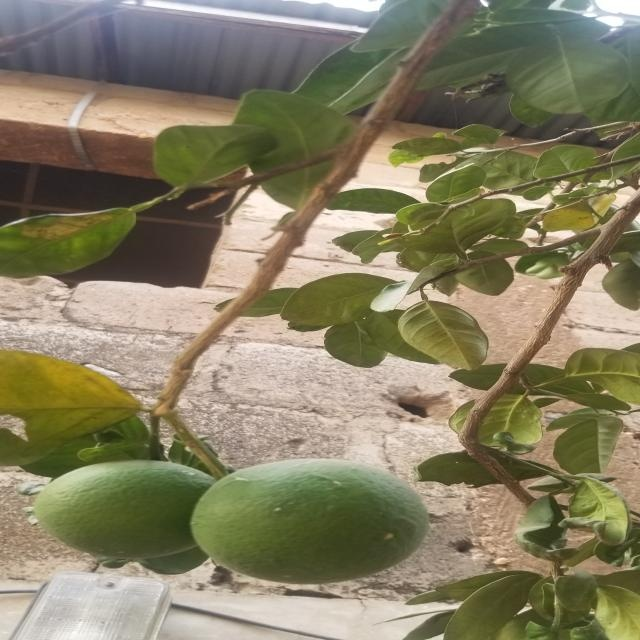agrume: (199, 457, 441, 595), (33, 451, 212, 581)
